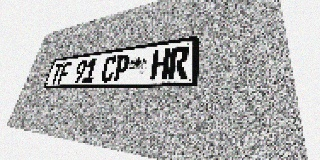1: (82, 58, 99, 83)
9: (72, 59, 88, 83)
C: (100, 55, 118, 82)
F: (57, 62, 73, 84)
H: (150, 48, 171, 80)
P: (112, 54, 131, 82)
R: (168, 45, 189, 80)
T: (49, 63, 64, 84)
